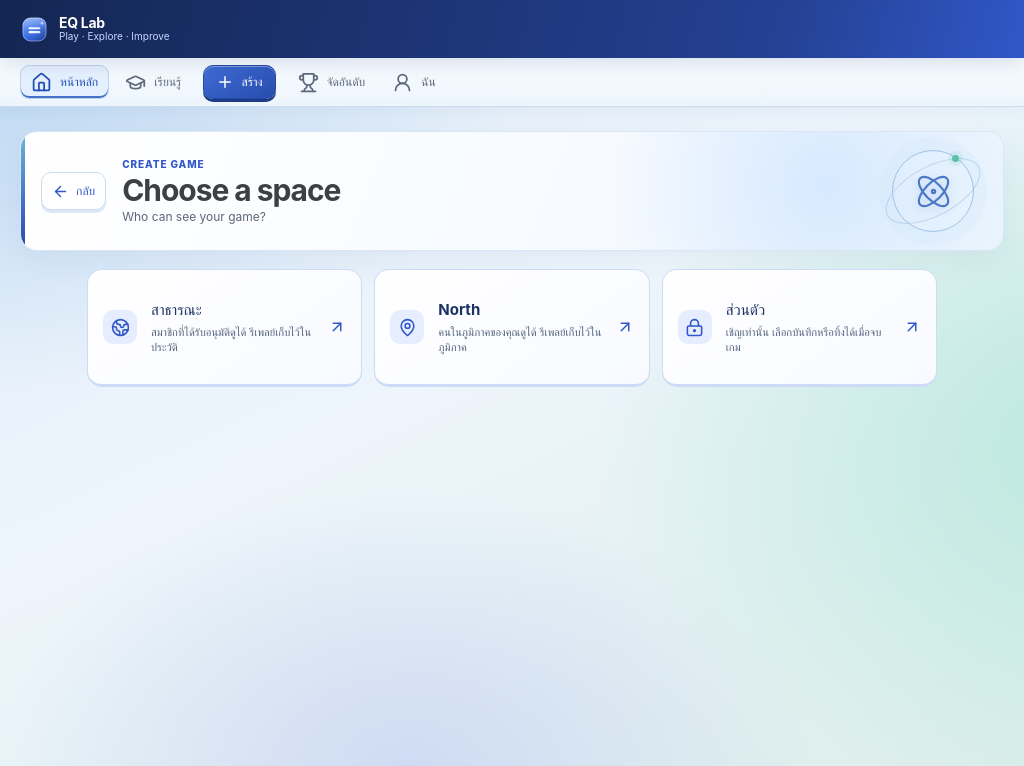
Test: Custom › introduces its setup form in the player's language
Click the button "สาธารณะ สมาชิกที่ได้รับอนุมัติดูได้ รีเพลย์เก็บไว้ในประวัติ": [225, 328] box top-left (87, 269), bottom-right (362, 387)
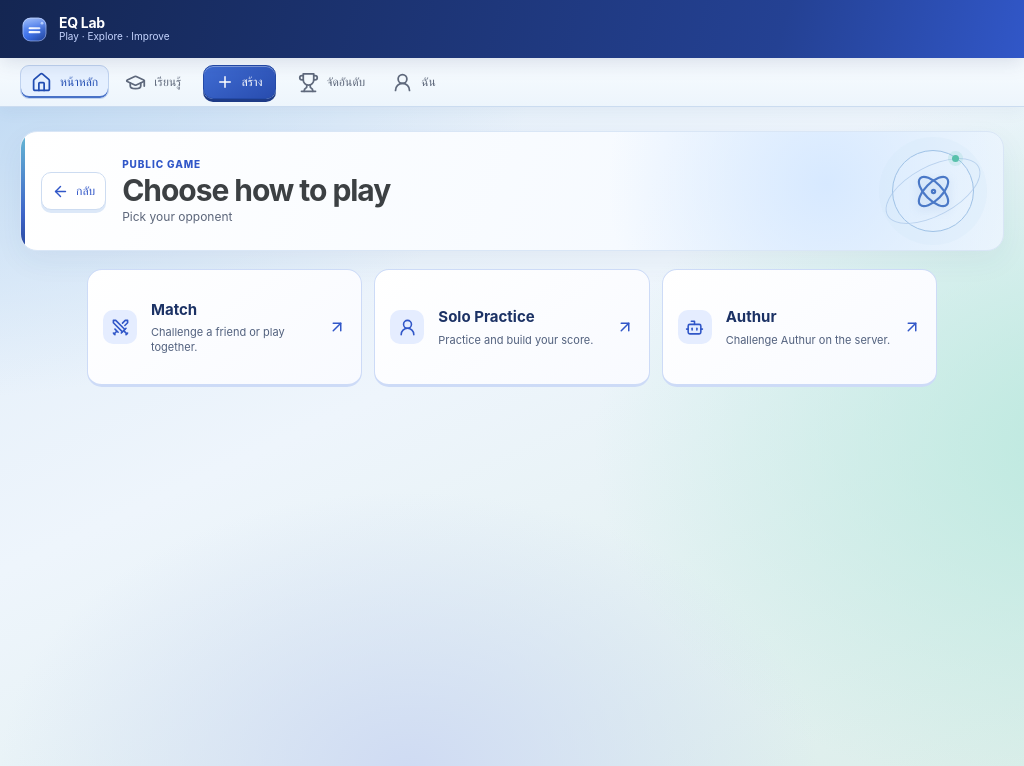
Click the button "Match Challenge a friend or play together.": [225, 328] box top-left (87, 269), bottom-right (362, 387)
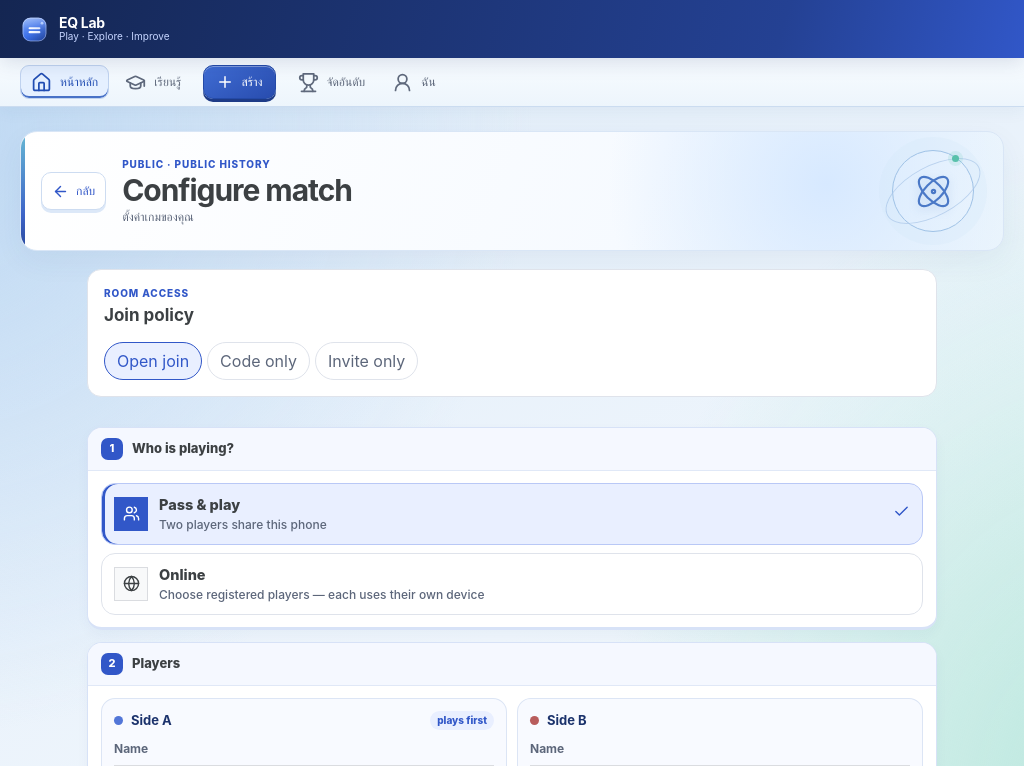
expect the text "ตั้งค่าเกมของคุณ" is shown: met, box top-left (122, 209), bottom-right (194, 224)
